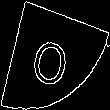O_N: (31, 24, 79, 86)
